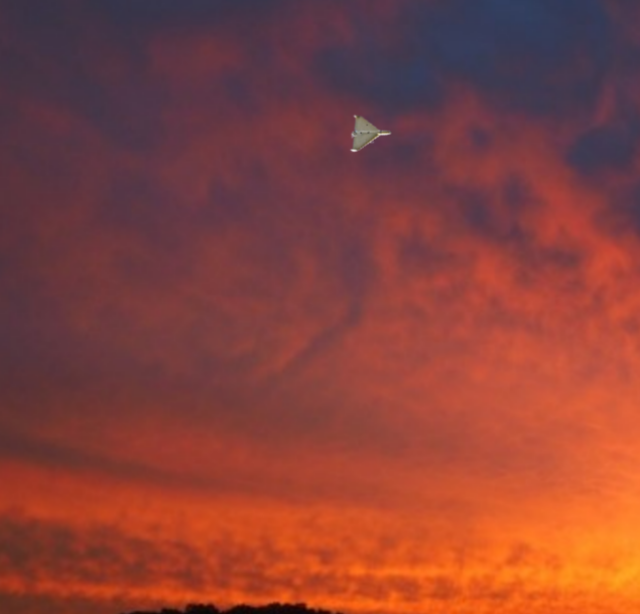military drone: (350, 114, 391, 152)
